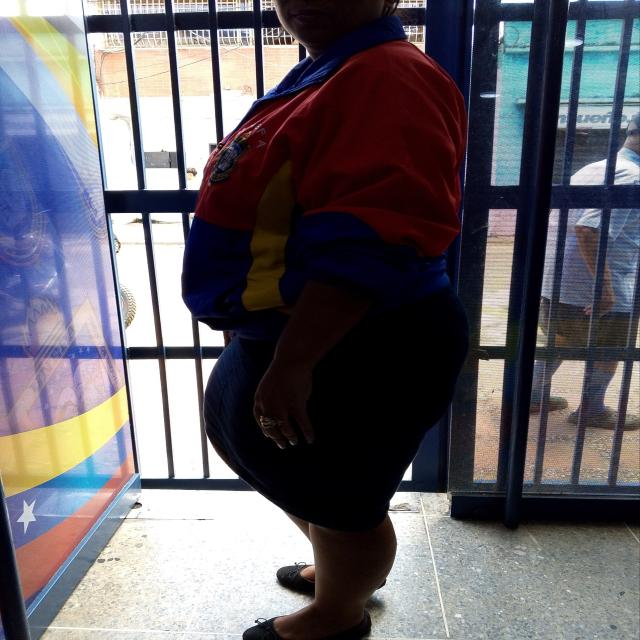chaqueta_unefa: (182, 14, 471, 331)
pantalon_oscuro: (203, 285, 472, 534)
